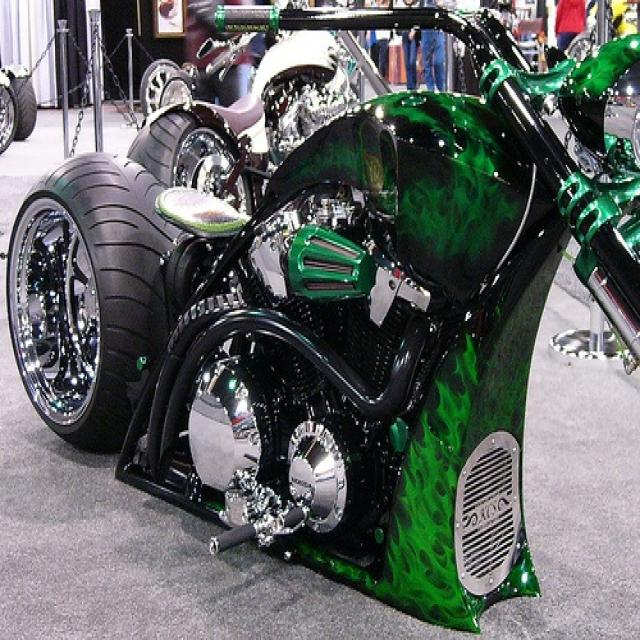motorbike: (5, 2, 639, 633)
